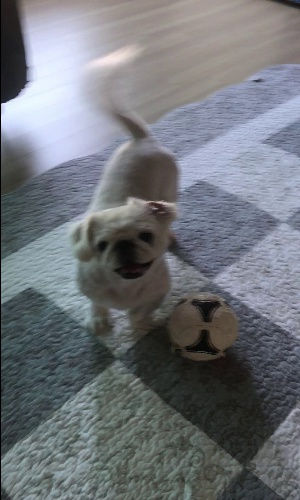ddubi: (67, 38, 181, 334)
